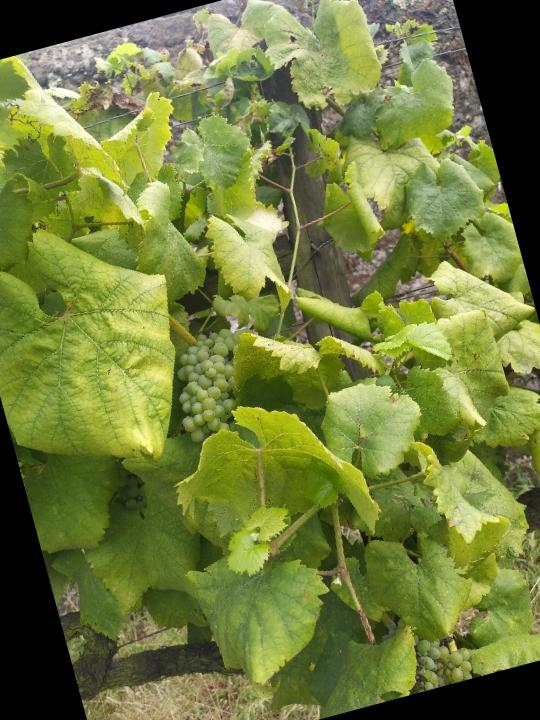grape: (159, 326, 258, 448)
